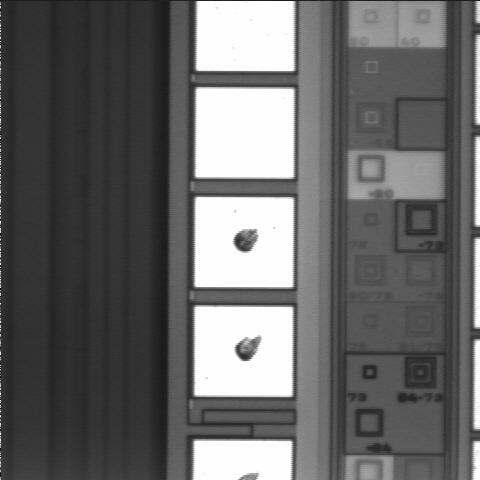pad: (195, 306, 293, 397), (196, 88, 294, 178), (195, 197, 293, 287)
